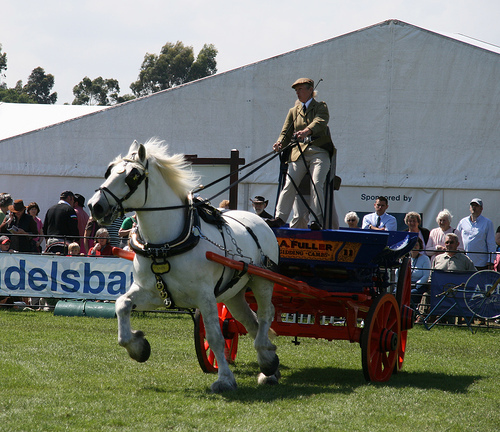horse: (86, 138, 281, 393)
